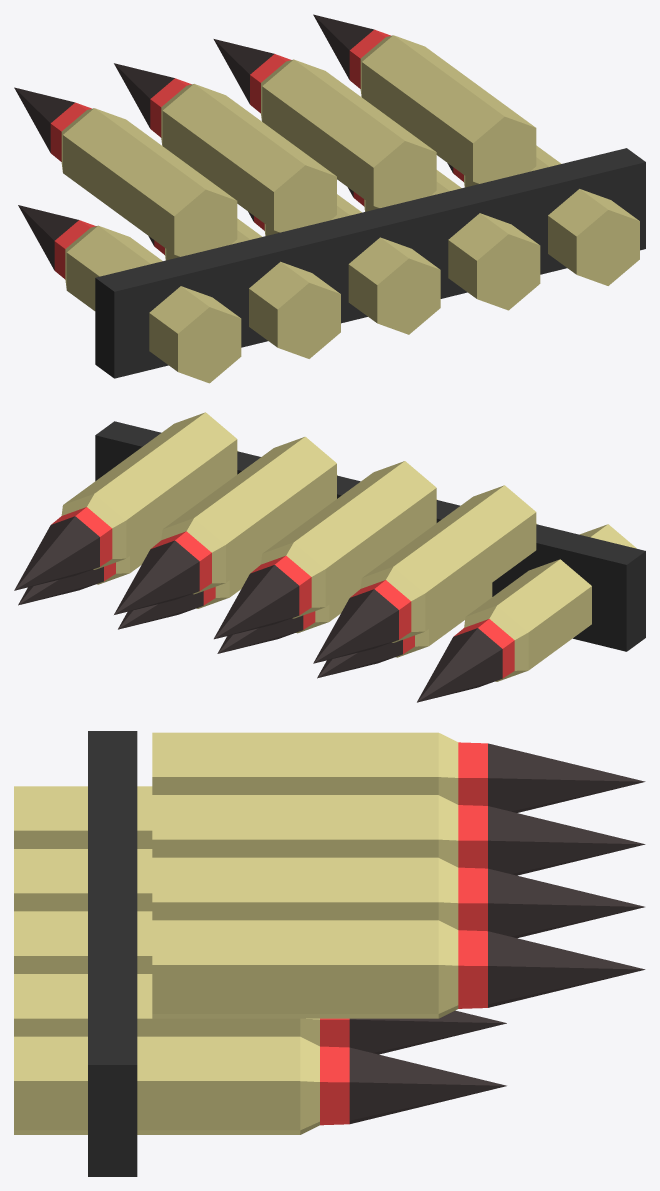
File: ce_ammo_highcal_he_b.obj
3 renders of one model, top to bottom at view 1: azimuth 30°, elevation 25°; view 2: azimuth 150°, elevation 25°; view 3: azimuth 270°, elevation 25°, orthographic. The views are drawn at different scales.
Parts seen in each view (by area): view 1: ce_ammo_highcal_he_b_36, ce_ammo_highcal_he_b_20, ce_ammo_highcal_he_b_32, ce_ammo_highcal_he_b_28, ce_ammo_highcal_he_b_24, ce_ammo_highcal_he_b_0, ce_ammo_highcal_he_b_12, ce_ammo_highcal_he_b_8, ce_ammo_highcal_he_b_4, ce_ammo_highcal_he_b_16, ce_ammo_highcal_he_b_27, ce_ammo_highcal_he_b_3 (+8 smaller); view 2: ce_ammo_highcal_he_b_36, ce_ammo_highcal_he_b_20, ce_ammo_highcal_he_b_24, ce_ammo_highcal_he_b_32, ce_ammo_highcal_he_b_28, ce_ammo_highcal_he_b_0, ce_ammo_highcal_he_b_27, ce_ammo_highcal_he_b_3, ce_ammo_highcal_he_b_31, ce_ammo_highcal_he_b_35, ce_ammo_highcal_he_b_23, ce_ammo_highcal_he_b_21 (+17 smaller); view 3: ce_ammo_highcal_he_b_32, ce_ammo_highcal_he_b_16, ce_ammo_highcal_he_b_36, ce_ammo_highcal_he_b_28, ce_ammo_highcal_he_b_20, ce_ammo_highcal_he_b_24, ce_ammo_highcal_he_b_12, ce_ammo_highcal_he_b_19, ce_ammo_highcal_he_b_35, ce_ammo_highcal_he_b_31, ce_ammo_highcal_he_b_27, ce_ammo_highcal_he_b_23 (+15 smaller).
Boxes of the visible parts, x1,y1,x2,y2 form: ce_ammo_highcal_he_b_36: (95,148,645,378); ce_ammo_highcal_he_b_20: (63,108,237,256); ce_ammo_highcal_he_b_32: (362,35,536,183); ce_ammo_highcal_he_b_28: (262,59,436,207); ce_ammo_highcal_he_b_24: (162,84,336,232); ce_ammo_highcal_he_b_0: (66,225,241,383); ce_ammo_highcal_he_b_12: (365,170,540,310); ce_ammo_highcal_he_b_8: (266,194,440,334); ce_ammo_highcal_he_b_4: (166,218,340,358); ce_ammo_highcal_he_b_16: (465,145,639,285); ce_ammo_highcal_he_b_27: (114,63,174,128); ce_ammo_highcal_he_b_3: (18,205,78,270); ce_ammo_highcal_he_b_36: (95,421,645,651); ce_ammo_highcal_he_b_20: (363,485,536,631); ce_ammo_highcal_he_b_24: (263,461,436,606); ce_ammo_highcal_he_b_32: (63,412,237,558); ce_ammo_highcal_he_b_28: (163,436,336,582); ce_ammo_highcal_he_b_0: (466,524,636,670); ce_ammo_highcal_he_b_27: (214,565,299,639); ce_ammo_highcal_he_b_3: (417,628,502,702); ce_ammo_highcal_he_b_31: (114,540,199,614); ce_ammo_highcal_he_b_35: (14,516,99,590); ce_ammo_highcal_he_b_23: (313,589,398,663); ce_ammo_highcal_he_b_21: (360,566,425,642); ce_ammo_highcal_he_b_32: (152,920,438,1018); ce_ammo_highcal_he_b_16: (14,1036,300,1134); ce_ammo_highcal_he_b_36: (88,731,137,1176); ce_ammo_highcal_he_b_28: (152,857,438,920); ce_ammo_highcal_he_b_20: (152,732,438,794); ce_ammo_highcal_he_b_24: (152,795,438,857); ce_ammo_highcal_he_b_12: (14,974,300,1036); ce_ammo_highcal_he_b_19: (349,1047,506,1123); ce_ammo_highcal_he_b_35: (488,931,645,1007); ce_ammo_highcal_he_b_31: (488,868,644,938); ce_ammo_highcal_he_b_27: (488,806,645,875); ce_ammo_highcal_he_b_23: (488,743,645,812).
Size of the model in its own units: 0.8 by 0.205 by 0.64.
